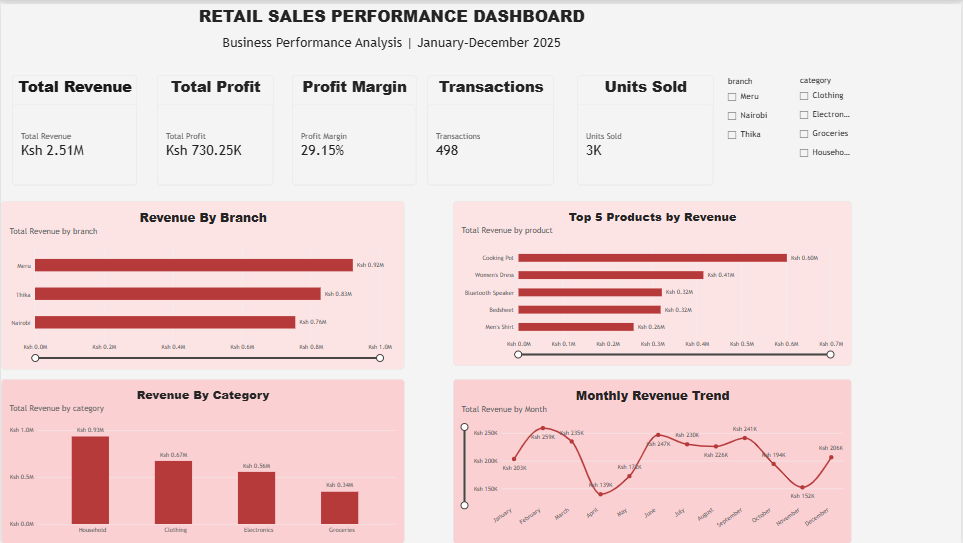

The page's visual inventory and layout, read from the dashboard file:
{"tool":"powerbi","page":{"name":"Page 1","canvas":[1920,1080],"ordinal":0},"visuals":[{"type":"cardVisual","title":"Total Revenue","fields":{"Data":["retail_sales_clean.Total Revenue"]},"box":[22.9,141.4,250,221.4],"z":0},{"type":"cardVisual","title":"Total Profit","fields":{"Data":["retail_sales_clean.Total Profit"]},"box":[312.9,141.4,232.9,221.4],"z":1000},{"type":"cardVisual","title":"Profit Margin","fields":{"Data":["retail_sales_clean.Profit Margin"]},"box":[581.4,141.4,248.6,221.4],"z":2000},{"type":"cardVisual","title":"Transactions","fields":{"Data":["retail_sales_clean.Transactions"]},"box":[852.9,141.4,254.3,221.4],"z":3000},{"type":"clusteredBarChart","title":"Revenue By Branch","fields":{"Category":["retail_sales_clean.branch"],"Y":["retail_sales_clean.Total Revenue"]},"box":[0,393.3,806.7,336.7],"z":4000},{"type":"clusteredColumnChart","title":"Revenue By Category","fields":{"Category":["retail_sales_clean.category"],"Y":["retail_sales_clean.Total Revenue"]},"box":[0,750,806.7,330],"z":4001},{"type":"lineChart","title":"Monthly Revenue Trend","fields":{"Category":["retail_sales_clean.sale_date.Variation.Date Hierarchy.Month"],"Y":["retail_sales_clean.Total Revenue"]},"box":[903.3,750,796.7,330],"z":4002},{"type":"clusteredBarChart","title":"Top 5 Products by Revenue","fields":{"Category":["retail_sales_clean.product"],"Y":["retail_sales_clean.Total Revenue"]},"box":[903.3,393.3,796.7,330],"z":4003},{"type":"slicer","fields":{"Values":["retail_sales_clean.branch"]},"box":[1446.7,143.3,116.7,216.7],"z":4005},{"type":"slicer","fields":{"Values":["retail_sales_clean.category"]},"box":[1590,141.2,110,218.8],"z":4006},{"type":"cardVisual","title":"Units Sold","fields":{"Data":["retail_sales_clean.Units Sold"]},"box":[1152.9,141.4,272.9,221.4],"z":4007},{"type":"textbox","title":"RETAIL SALES PERFORMANCE DASHBOARD","box":[0,0,1563.3,113.3],"z":4008}]}

Visuals, with their boxes in screenshot pixels (x1, y1, x2, y2), scaled from the page's 1920x1080 canvas onto the 963x543 screenshot:
"Total Revenue" cardVisual: 11,71,137,182
"Total Profit" cardVisual: 157,71,274,182
"Profit Margin" cardVisual: 292,71,416,182
"Transactions" cardVisual: 428,71,555,182
"Revenue By Branch" clusteredBarChart: 0,198,405,367
"Revenue By Category" clusteredColumnChart: 0,377,405,542
"Monthly Revenue Trend" lineChart: 453,377,853,542
"Top 5 Products by Revenue" clusteredBarChart: 453,198,853,364
slicer - retail_sales_clean.branch: 726,72,784,181
slicer - retail_sales_clean.category: 797,71,853,181
"Units Sold" cardVisual: 578,71,715,182
"RETAIL SALES PERFORMANCE DASHBOARD" textbox: 0,0,784,57
